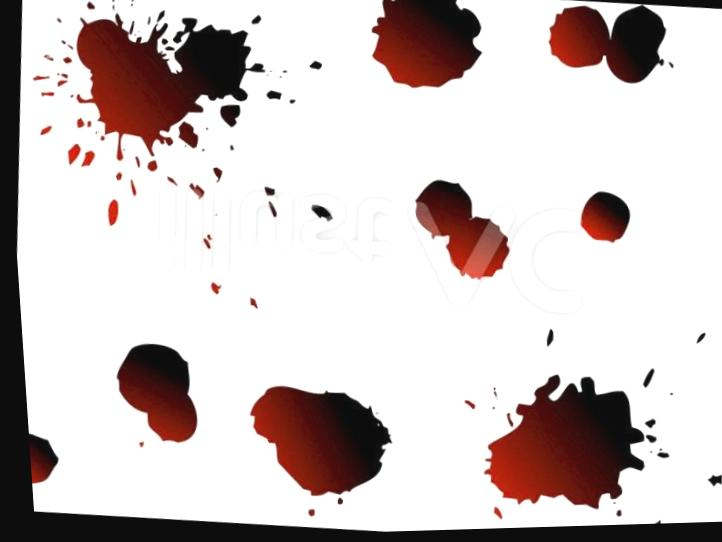Fire: (74, 15, 264, 162), (476, 379, 638, 513), (243, 388, 386, 498), (370, 0, 481, 91), (412, 182, 506, 284), (548, 9, 665, 88), (111, 345, 191, 445), (576, 196, 626, 247), (23, 435, 51, 484)
